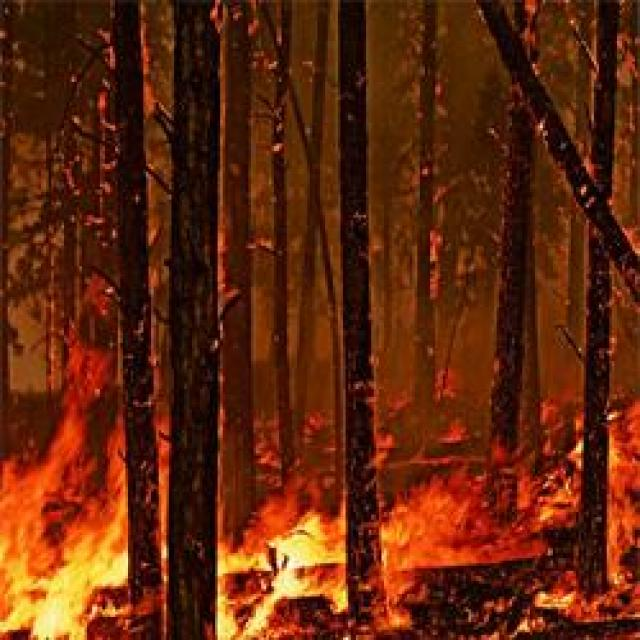fire: (0, 352, 129, 640), (537, 394, 640, 640), (381, 476, 534, 630), (215, 499, 346, 640)
